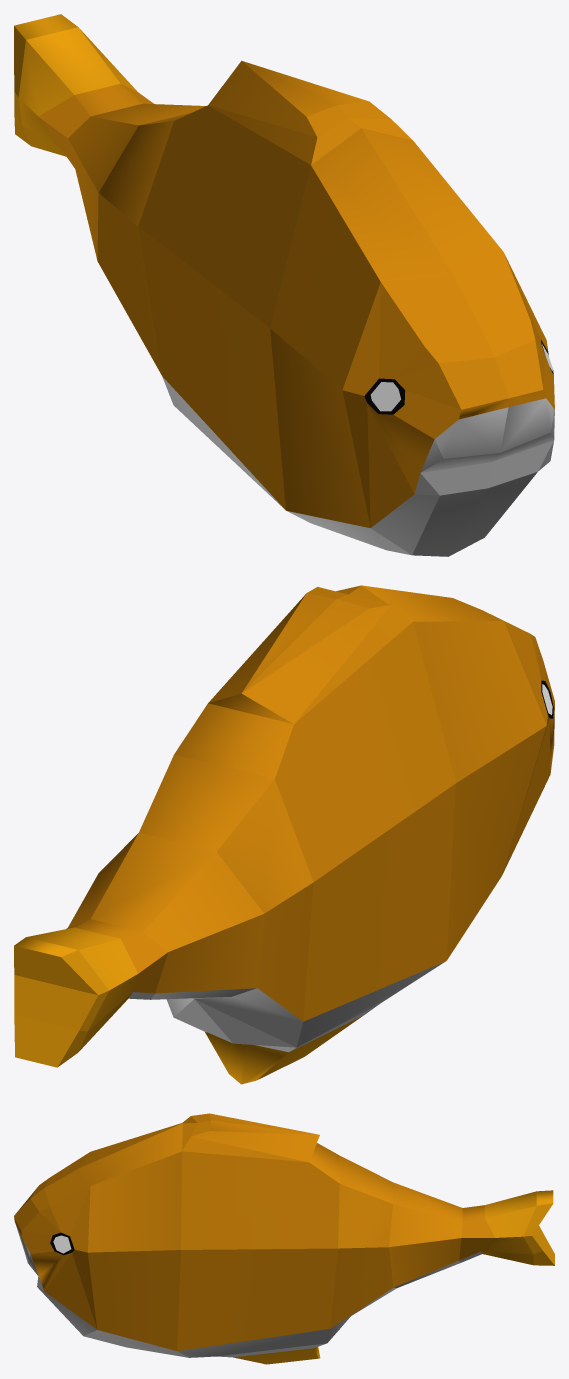
File: Fish-1c.fbx
3 views of the same model, one above another, from view 1: azimuth 30°, elevation 25°; view 2: azimuth 150°, elevation 25°; view 3: azimuth 270°, elevation 25° (orthographic). The views are drawn at different scales.
Parts seen in each view (by area): view 1: Fish-1; view 2: Fish-1; view 3: Fish-1.
Part boxes in pixels (<box>): Fish-1: <box>14,14,554,556</box>; Fish-1: <box>14,585,554,1084</box>; Fish-1: <box>14,1113,554,1364</box>.
Bounding box in the file's own units: 0.2252 × 0.4485 × 0.9027.
